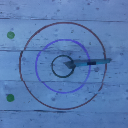Axe Tip: (63, 62, 75, 64)
